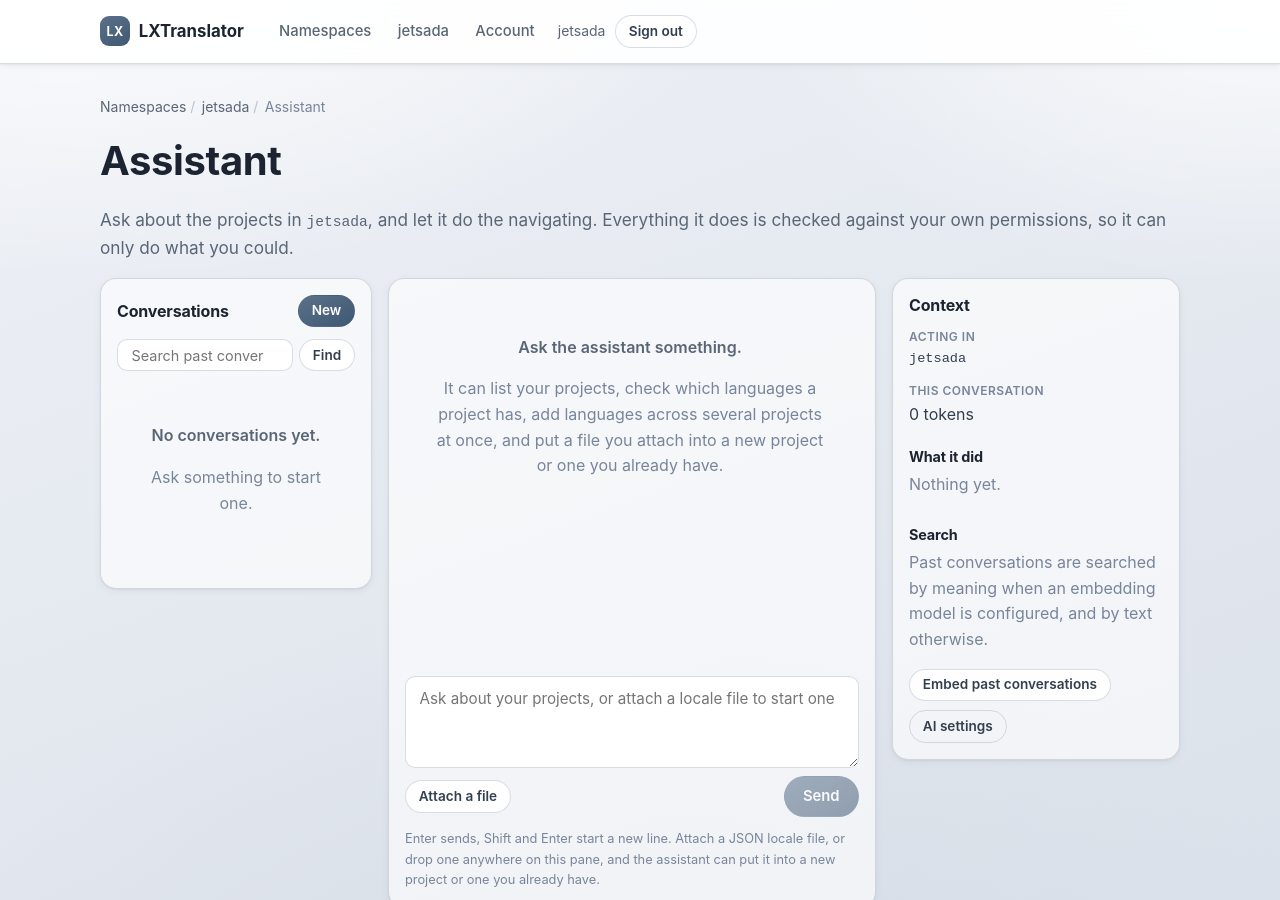
Test: the assistant › sending a message › renders an answer as text rather than as markup
Type "Check names" into the text box named "Message".
click(632, 722); type("Check names")  # box top-left (405, 676), bottom-right (859, 768)
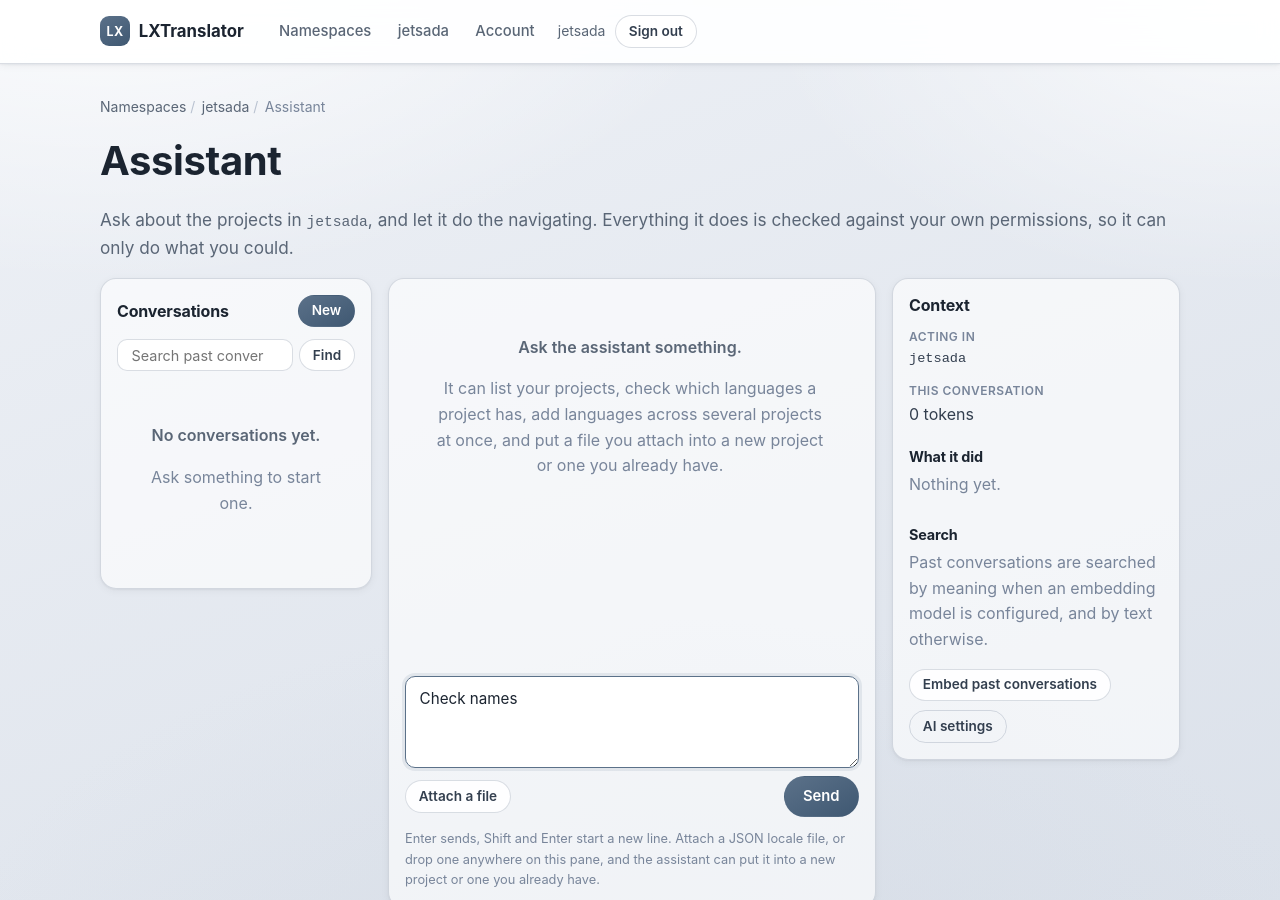
Click the button "Send".
click(821, 797)  # box top-left (784, 776), bottom-right (859, 817)
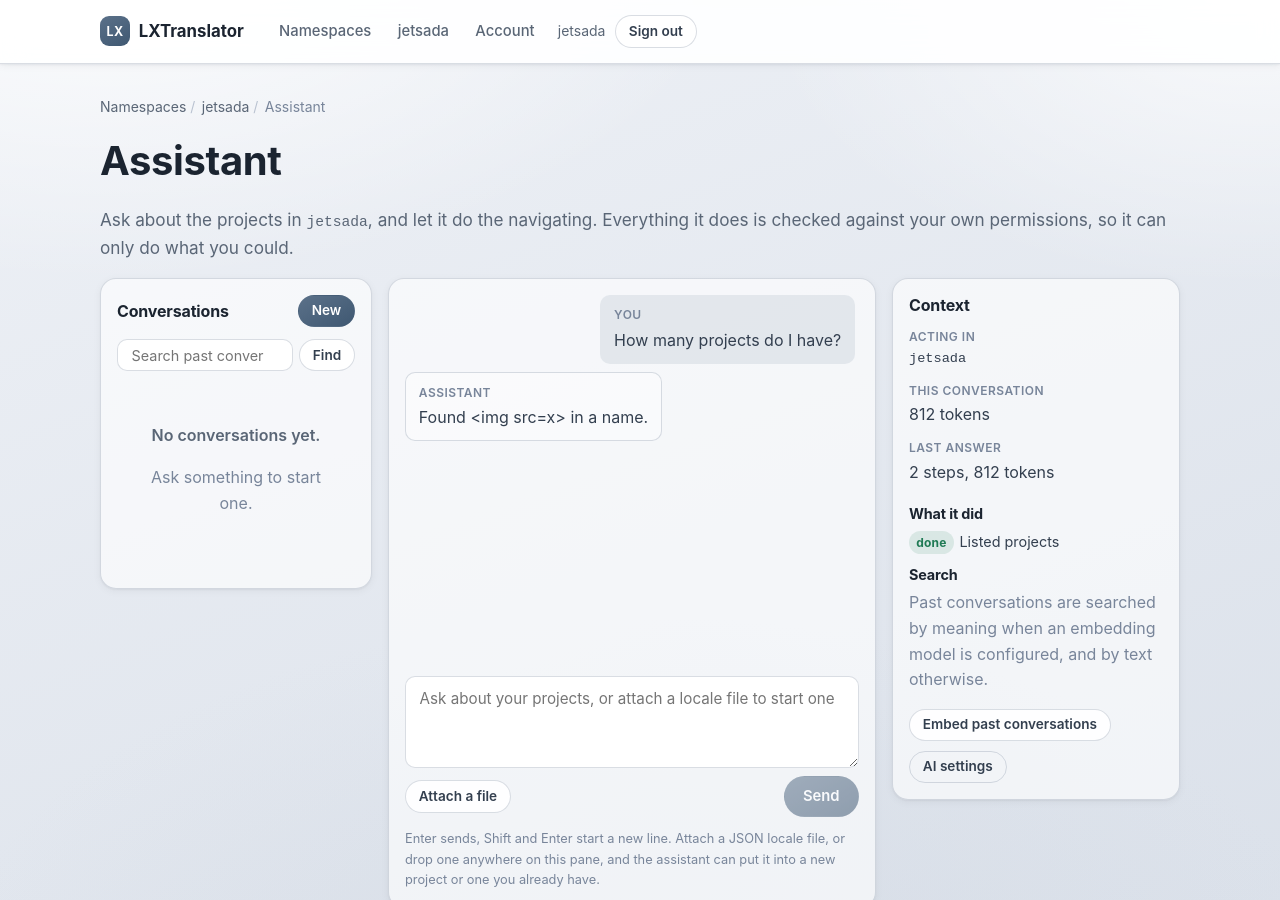
Now the text "Found <img src=x> in a name." is shown, box top-left (419, 405), bottom-right (648, 431)
